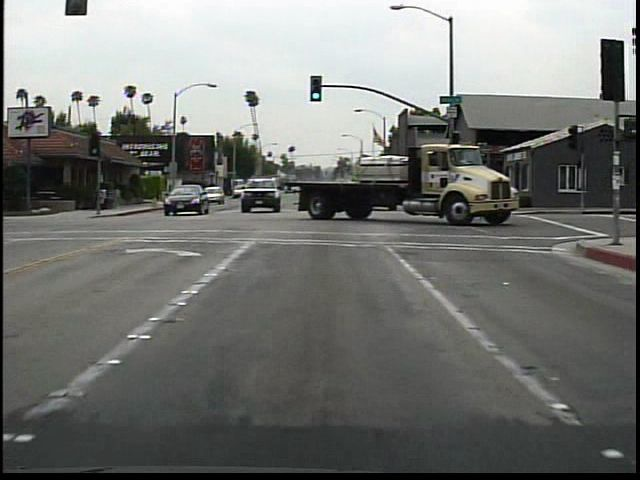person: (180, 182, 196, 206)
